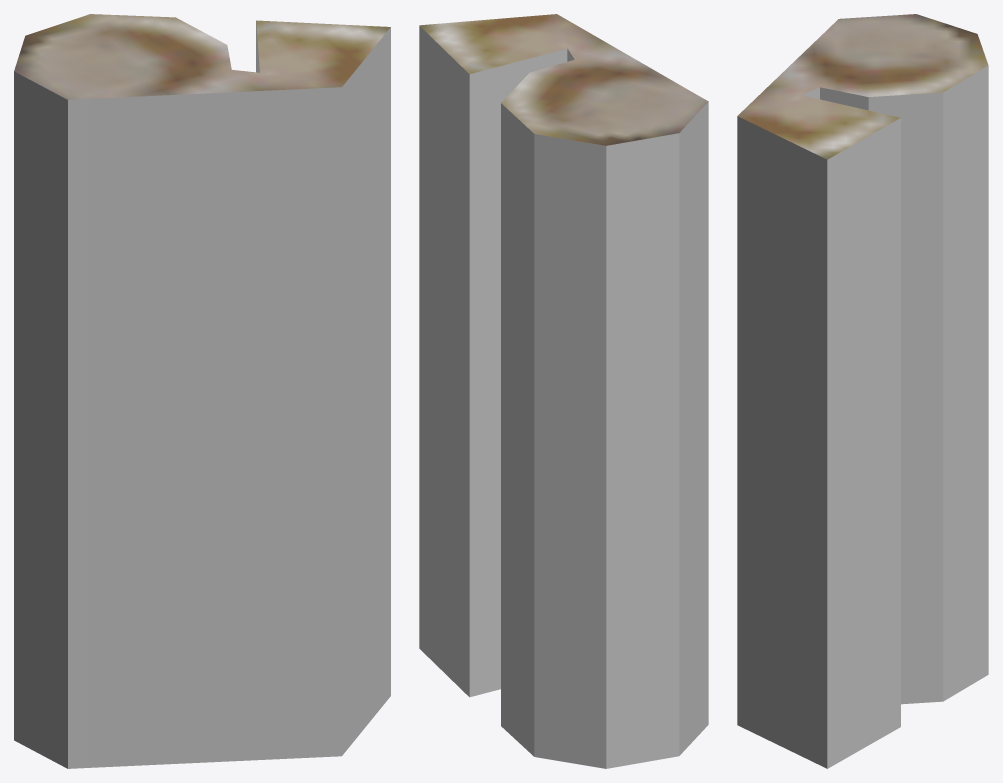
The model's file is DEBW_001000gVM6w.gltf.
3 views of the same model, side by side, from view 1: azimuth 30°, elevation 25°; view 2: azimuth 150°, elevation 25°; view 3: azimuth 270°, elevation 25° (orthographic). The views are drawn at different scales.
Visible parts, largest first — view 1: Z_UP; view 2: Z_UP; view 3: Z_UP.
Part boxes in pixels (x1,y1,x2,y2): Z_UP: (14,14,390,768); Z_UP: (419,14,708,768); Z_UP: (737,14,988,768).
Bounding box in the file's own units: 5.63 × 10.97 × 4.1.
Materials: 2 (1 with a texture image).
